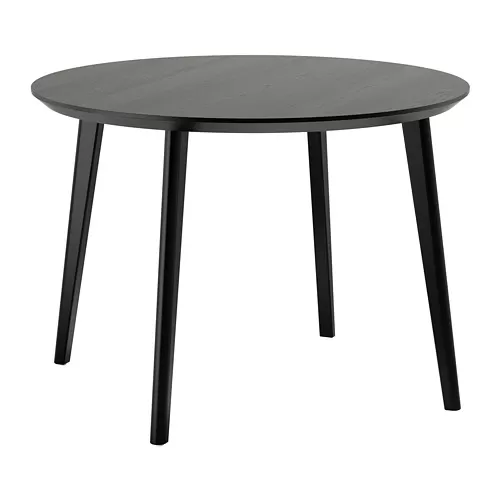Table: (28, 54, 471, 445)
